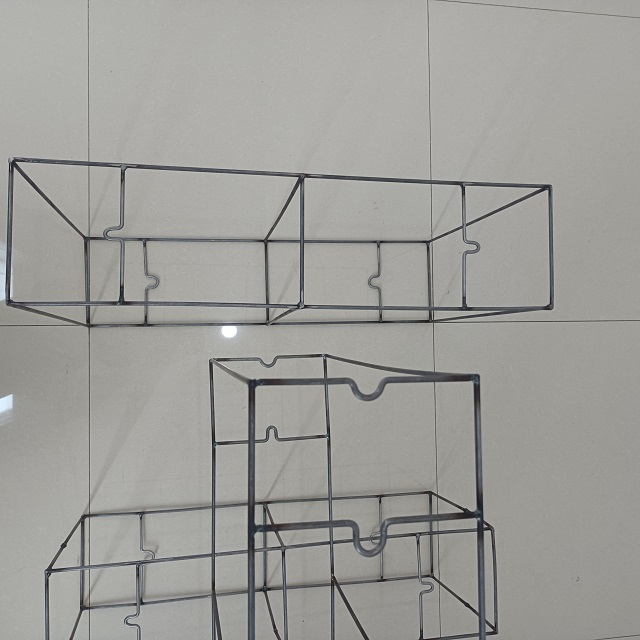curvedhole: (343, 512, 395, 560), (335, 371, 398, 410), (97, 214, 131, 251), (459, 229, 484, 267), (123, 600, 149, 635), (136, 266, 161, 296), (415, 573, 437, 606), (254, 350, 285, 373), (261, 422, 288, 447), (132, 548, 163, 569), (365, 268, 387, 296)
